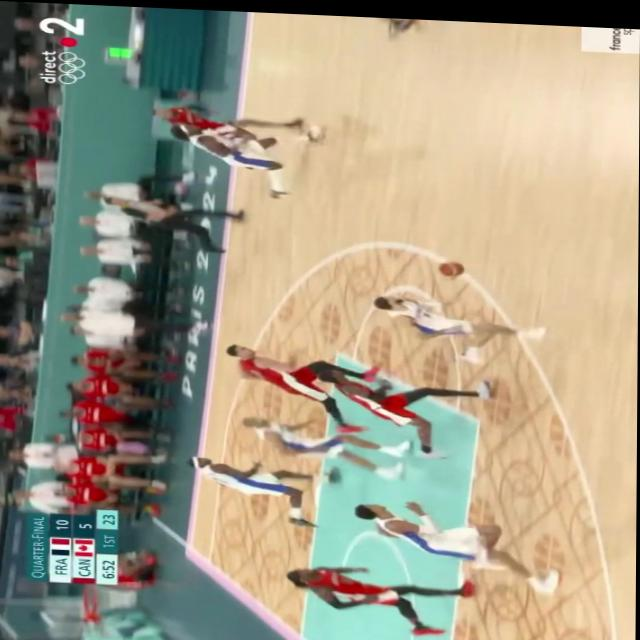ball_handler: (373, 253, 540, 347)
